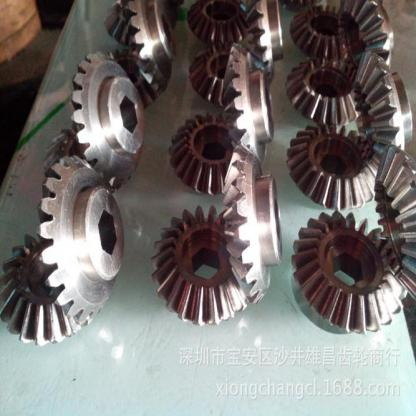FOD: (37, 149, 125, 331), (291, 204, 408, 338), (150, 197, 252, 328), (0, 234, 98, 350), (220, 142, 282, 312), (68, 46, 147, 173), (288, 120, 378, 213), (373, 138, 415, 300), (164, 109, 234, 200), (284, 55, 370, 126), (356, 47, 414, 144), (186, 42, 229, 102)
